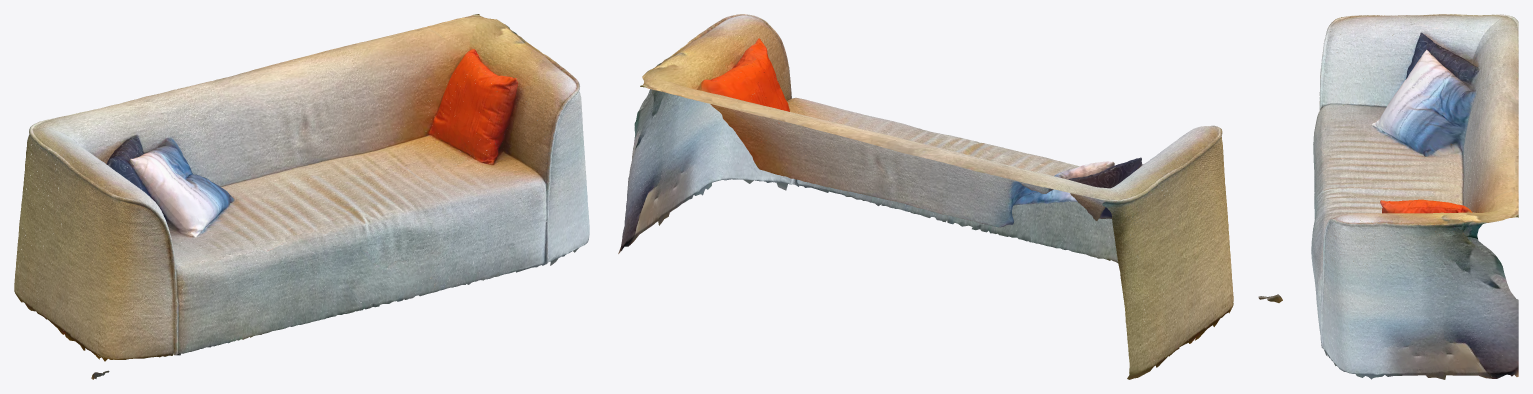
Rendered from canape.glb.
3 views of the same model, side by side, from view 1: azimuth 30°, elevation 25°; view 2: azimuth 150°, elevation 25°; view 3: azimuth 270°, elevation 25° (orthographic). The views are drawn at different scales.
Visible parts, largest first — view 1: Object_2, Object_4; view 2: Object_2, Object_4; view 3: Object_2, Object_4.
Part boxes in pixels (box(x1,y1,x2,y2)): Object_2: box(14, 14, 588, 379); Object_4: box(19, 120, 589, 359); Object_2: box(618, 14, 1282, 379); Object_4: box(631, 52, 1233, 368); Object_2: box(1311, 14, 1518, 378); Object_4: box(1319, 15, 1491, 379).
Size of the model in its own units: 2.37 by 0.7425 by 0.8938.
Materials: 2 (2 with a texture image).
